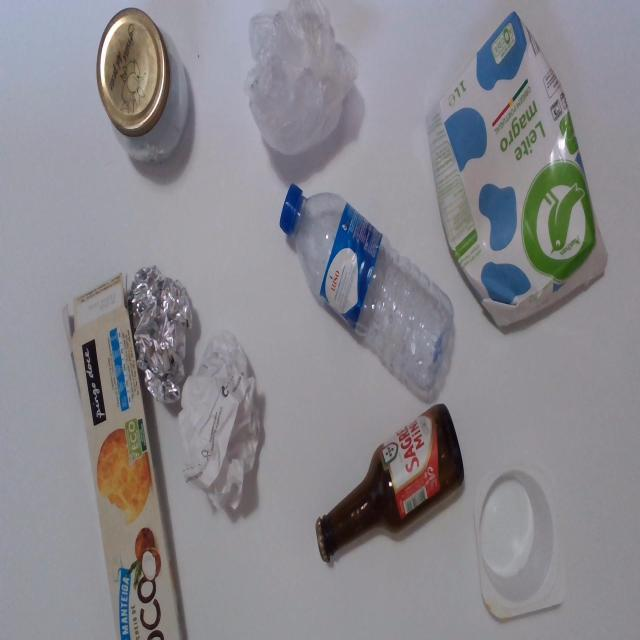Cardboard: (60, 271, 187, 640)
Glass: (317, 403, 465, 568)
Paper: (185, 329, 263, 521)
Plastic: (275, 179, 454, 415)
